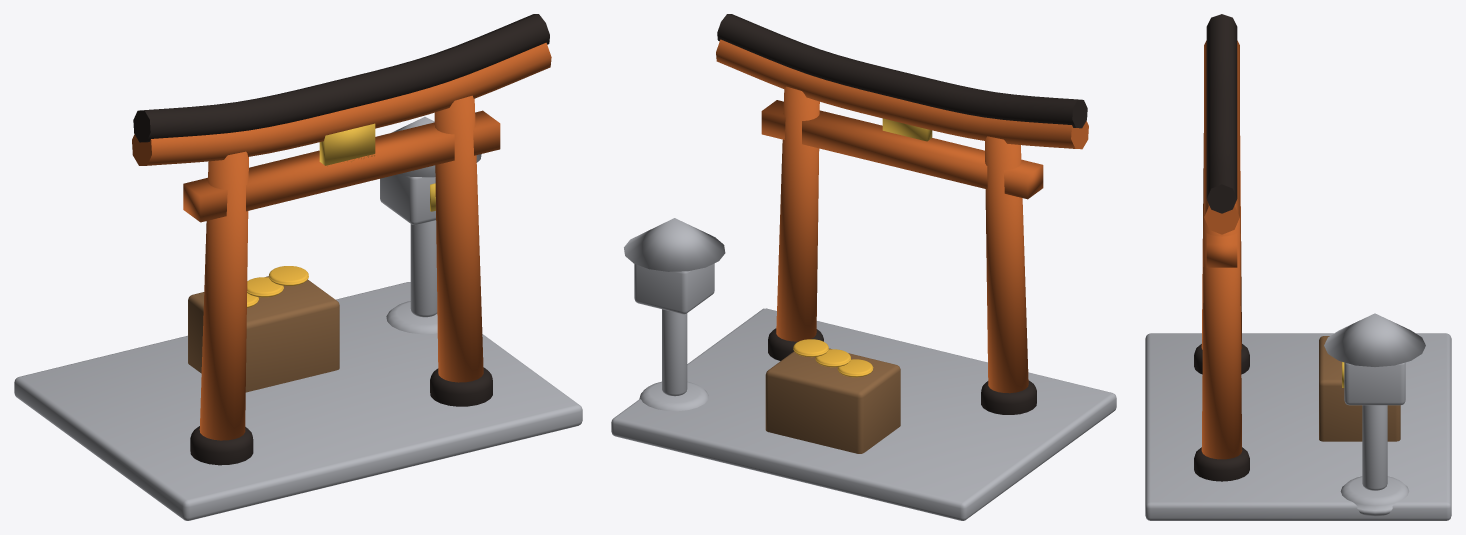
Rendered from Shrine.fbx.
3 views of the same model, side by side, from view 1: azimuth 30°, elevation 25°; view 2: azimuth 150°, elevation 25°; view 3: azimuth 270°, elevation 25° (orthographic). The views are drawn at different scales.
Parts seen in each view (by area): view 1: Shrine; view 2: Shrine; view 3: Shrine.
Part boxes in pixels (x1=…): Shrine: x1=14, y1=14, x2=582, y2=520; Shrine: x1=611, y1=14, x2=1116, y2=520; Shrine: x1=1145, y1=14, x2=1451, y2=520.
Size of the model in its own units: 0.8457 by 0.7296 by 0.6.
